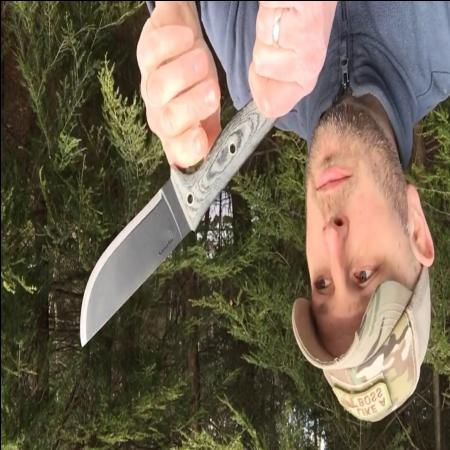long weapon: (73, 127, 228, 351)
